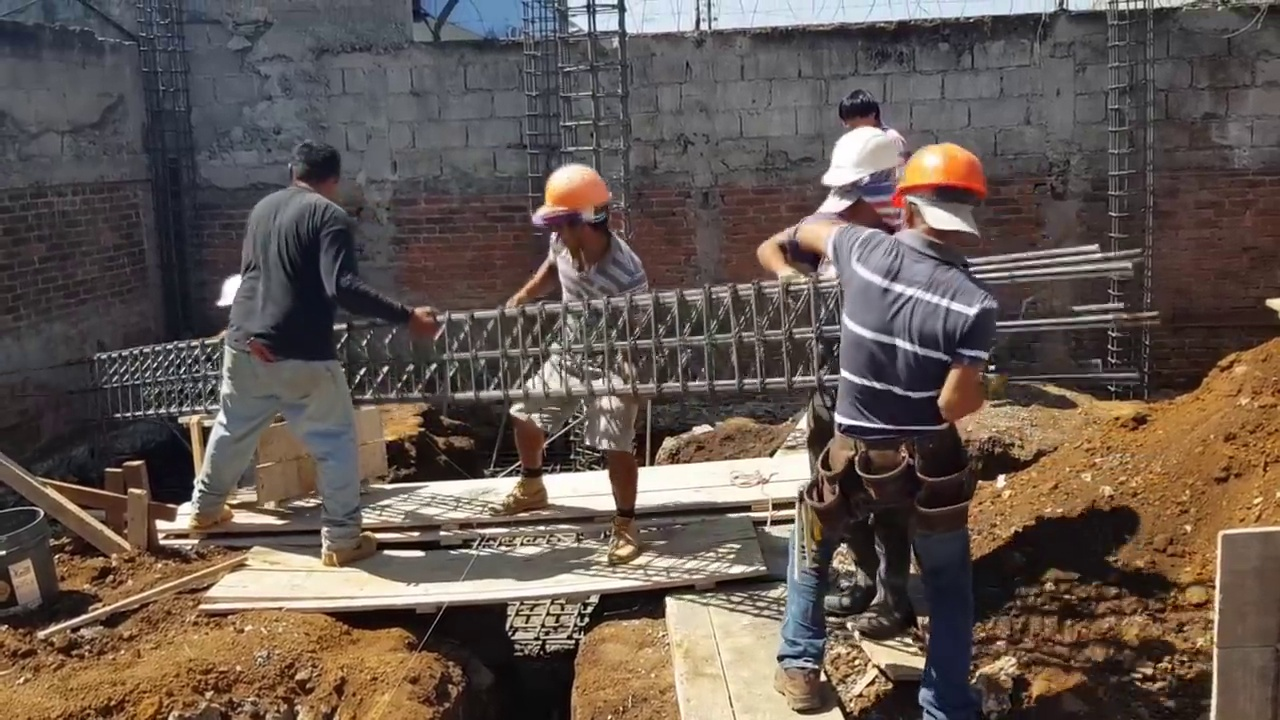helmet: (894, 144, 988, 208), (822, 129, 902, 191), (534, 168, 611, 228), (213, 275, 243, 309)
helmet-off: (284, 145, 342, 204), (840, 93, 886, 136)
helmet-on: (899, 142, 990, 249), (528, 164, 617, 272), (818, 127, 900, 228)
person: (772, 140, 1015, 720), (173, 142, 390, 577), (494, 162, 646, 560), (755, 131, 907, 407), (838, 90, 912, 230)
